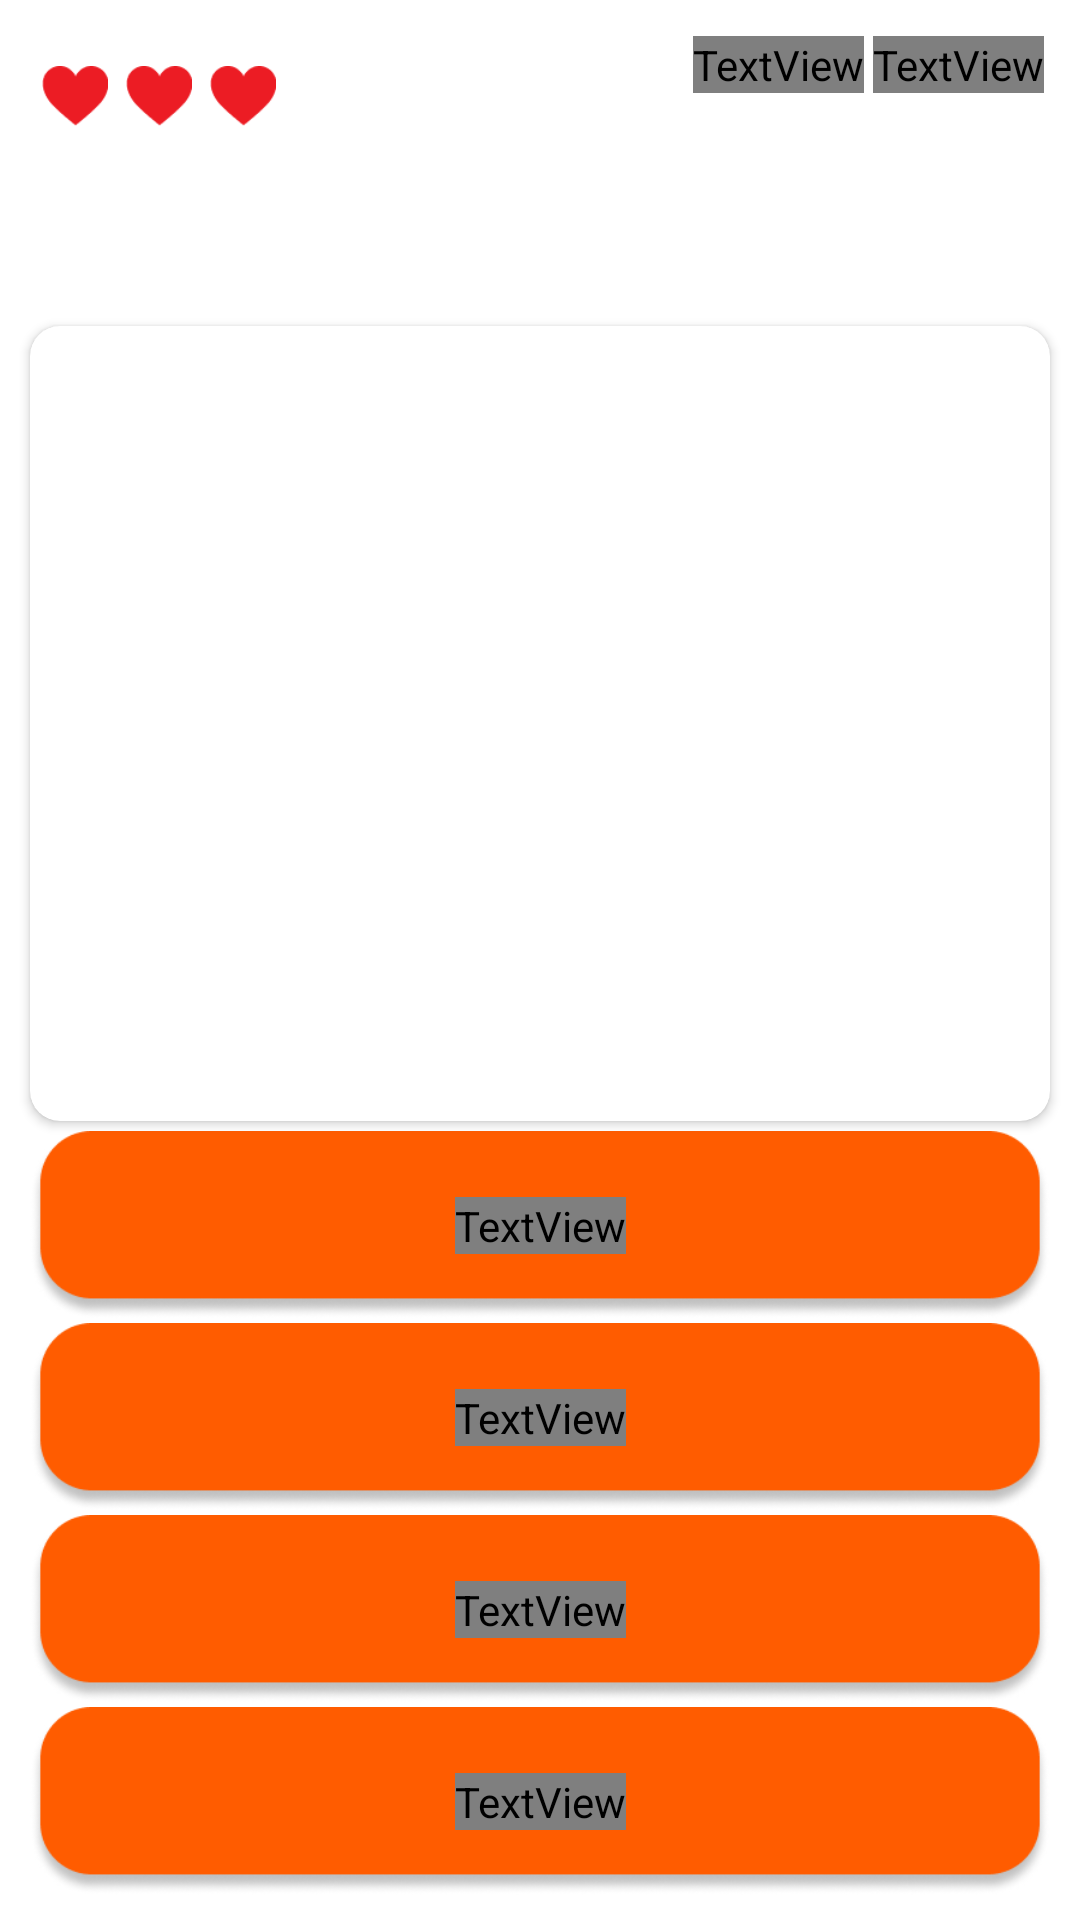

Screen size 1080 x 1920. Icon name, then its center in pixels as point (x, y):
Heart: point (75, 96), point (159, 96), point (243, 96)
